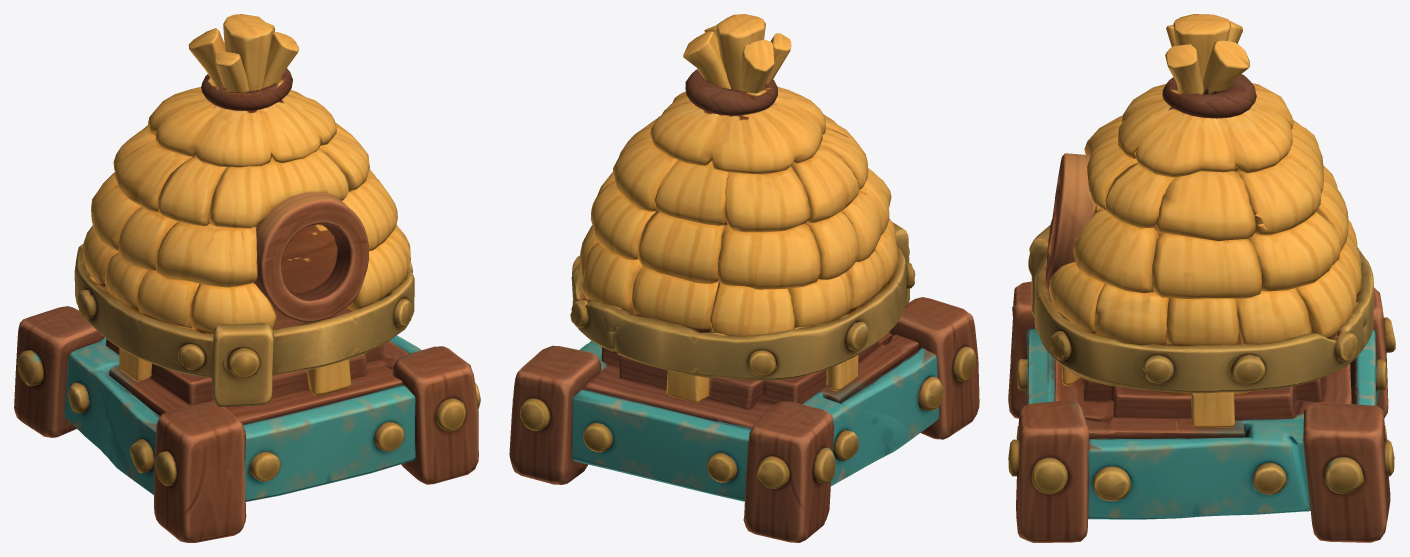
Rendered from beehive.glb.
3 renders of one model, left to right at view 1: azimuth 30°, elevation 25°; view 2: azimuth 150°, elevation 25°; view 3: azimuth 270°, elevation 25°, orthographic. The views are drawn at different scales.
Size of the model in its own units: 0.7354 by 0.9507 by 0.7451.
1 material, 1 textured.
